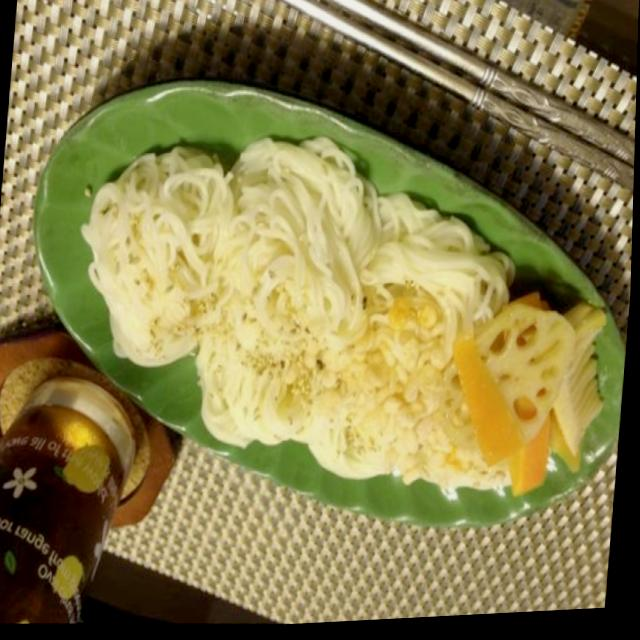面条主食: (1, 28, 637, 584)
